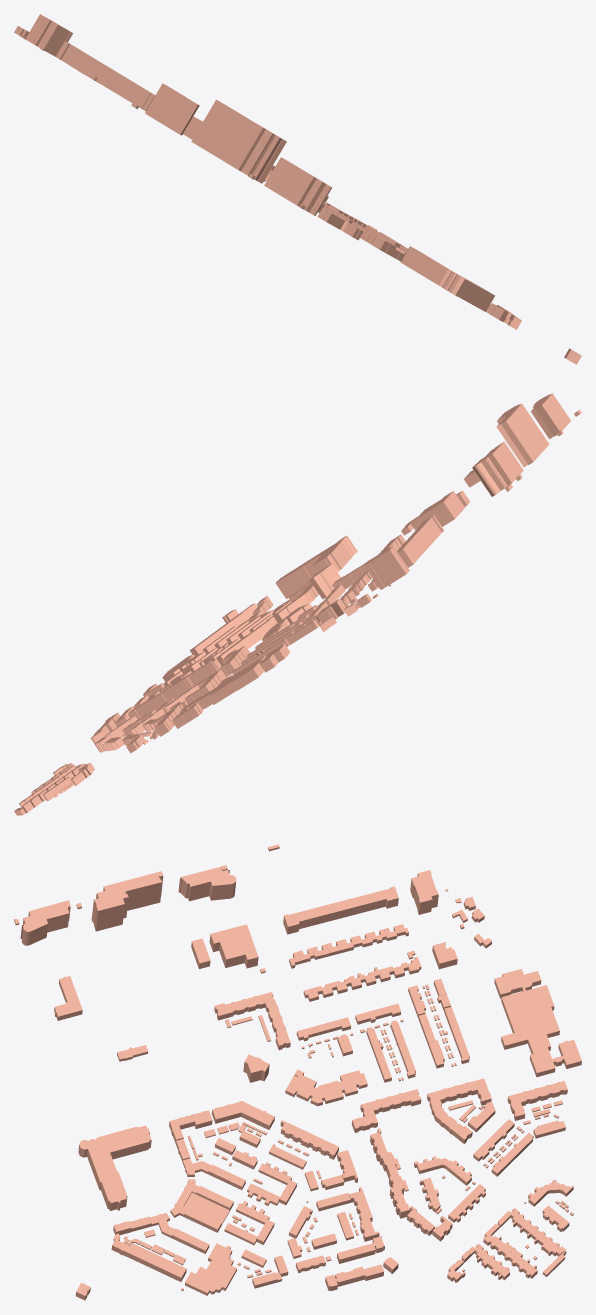
3 renders of one model, top to bottom at view 1: azimuth 30°, elevation 25°; view 2: azimuth 150°, elevation 25°; view 3: azimuth 270°, elevation 25°, orthographic. The views are drawn at different scales.
Size of the model in its own units: 475 by 363 by 650.
